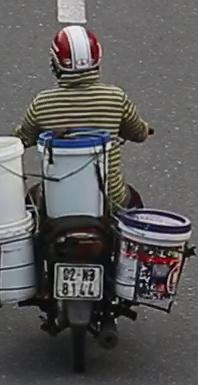LP: (53, 260, 107, 303)
helmet: (48, 24, 107, 80)
